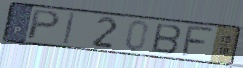0: (124, 19, 150, 53)
2: (90, 15, 121, 51)
B: (150, 22, 183, 56)
F: (179, 25, 217, 59)
I: (62, 11, 77, 46)
P: (25, 8, 63, 42)
